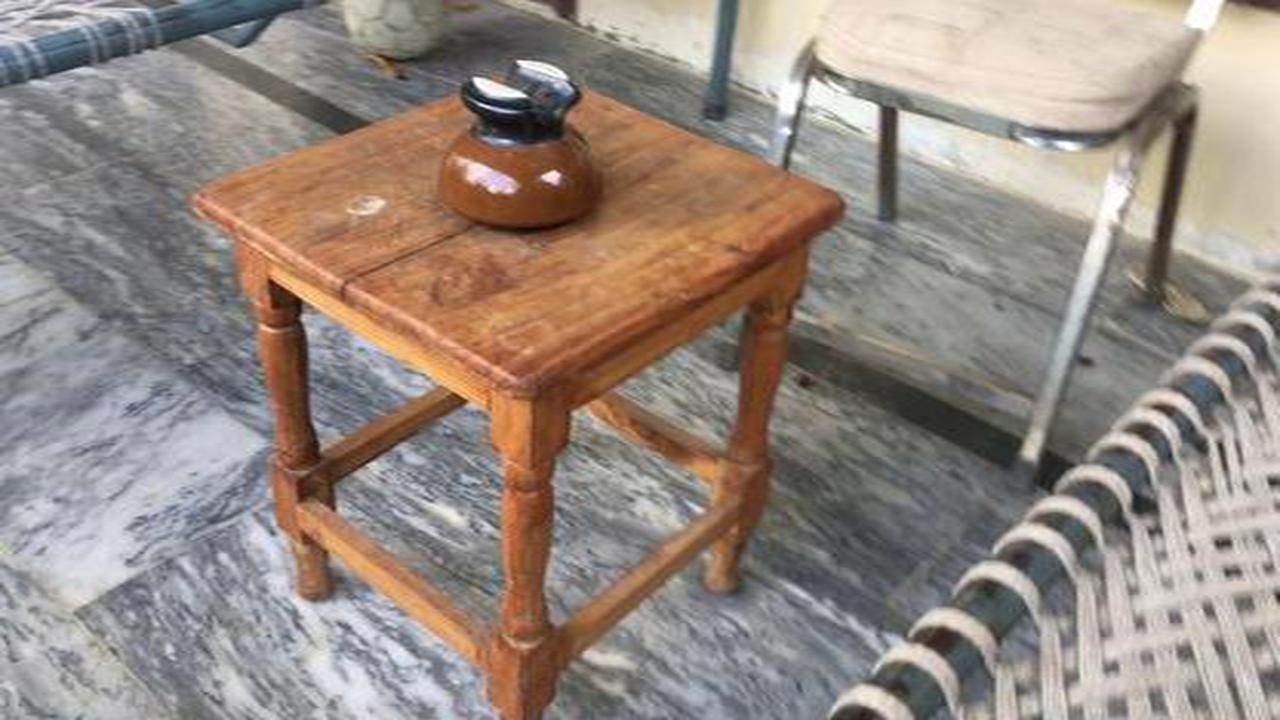insulator_pin: (419, 50, 619, 236)
